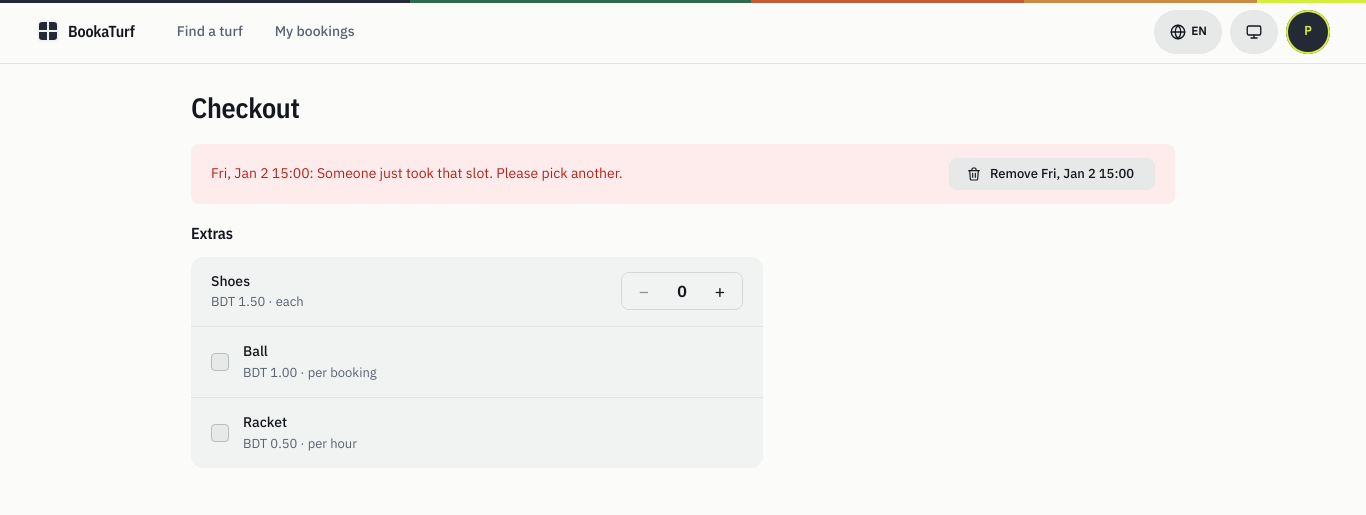
Test: CheckoutPage › a quote error on one booking offers to drop just that one
Click the button "Remove Fri, Jan 2 15:00" at point(1052, 174), box left=949, top=158, right=1155, bottom=190
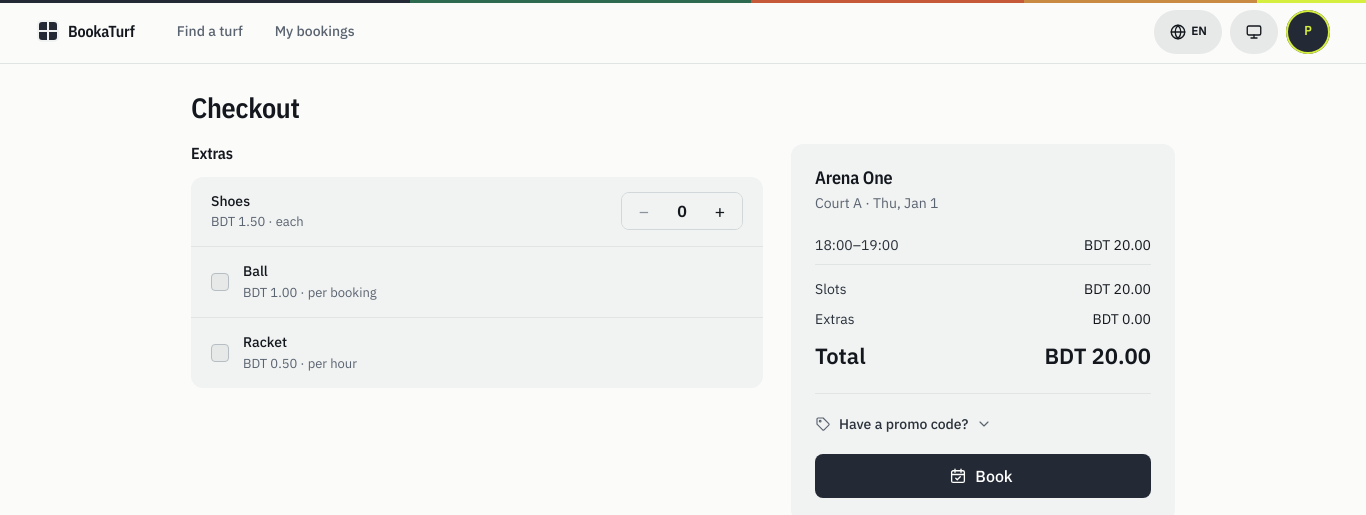
Check: the button "Book" is shown, box left=815, top=454, right=1151, bottom=498
